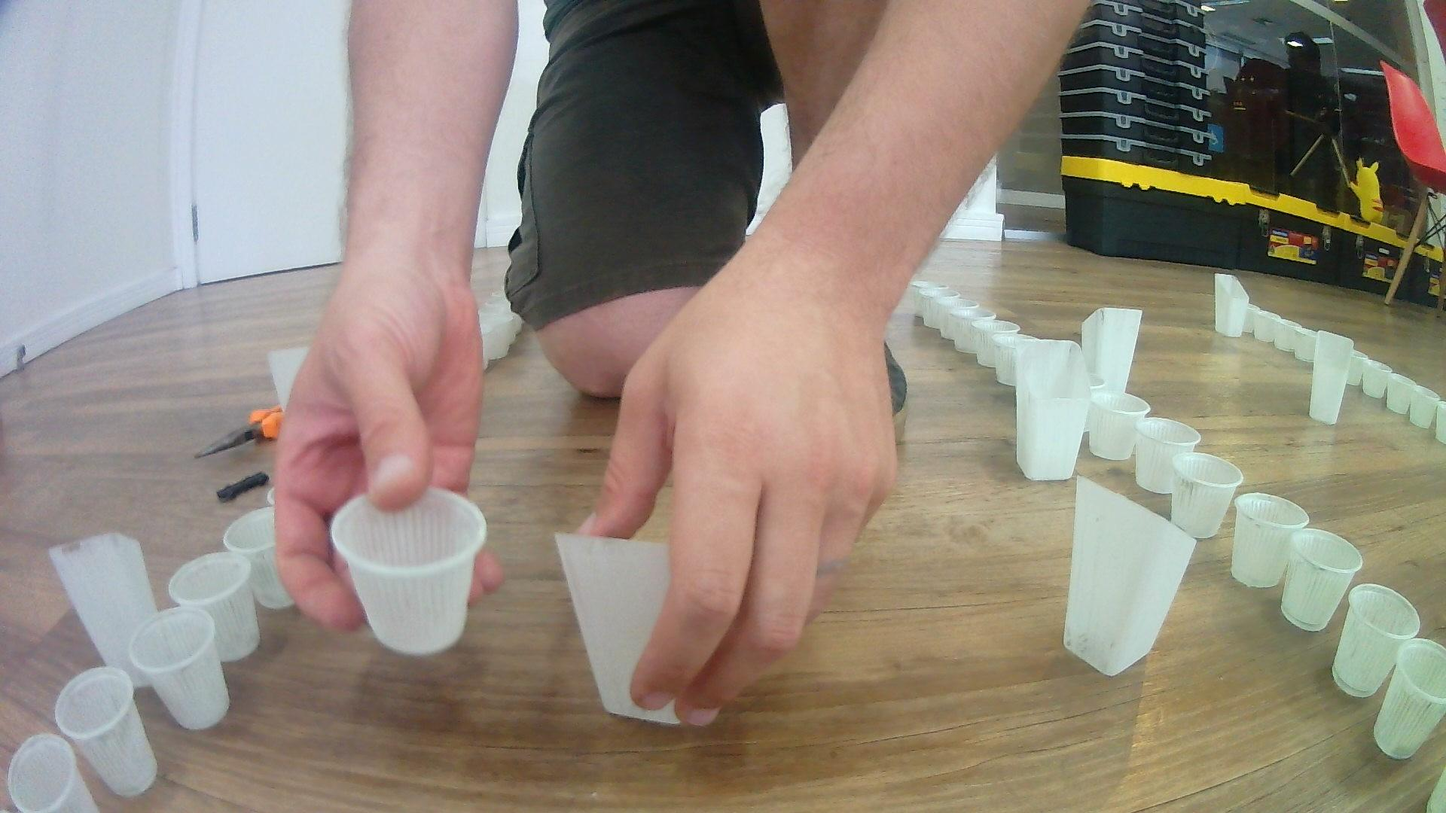erva_daninha: (555, 532, 708, 726), (1063, 477, 1197, 678), (49, 531, 160, 686), (1014, 339, 1093, 481), (1079, 306, 1143, 404), (1308, 330, 1355, 425), (267, 347, 310, 410), (1214, 273, 1249, 337)
planta: (327, 485, 488, 656), (54, 665, 159, 798), (126, 607, 231, 731), (167, 551, 260, 663), (1331, 583, 1420, 698), (1374, 638, 1446, 760), (1280, 528, 1364, 632), (222, 507, 300, 610), (1230, 492, 1309, 589), (7, 733, 101, 813), (1170, 451, 1244, 539), (1133, 416, 1202, 494), (1085, 393, 1152, 461), (996, 333, 1042, 385), (977, 321, 1021, 367), (953, 311, 997, 355), (939, 298, 980, 340), (923, 288, 959, 330), (1408, 385, 1440, 430), (1386, 373, 1417, 416), (911, 280, 944, 318), (1362, 360, 1393, 399), (1253, 308, 1281, 343), (1273, 319, 1302, 352), (1348, 350, 1371, 387), (1295, 328, 1318, 361), (1242, 303, 1262, 335), (1434, 401, 1446, 445)
